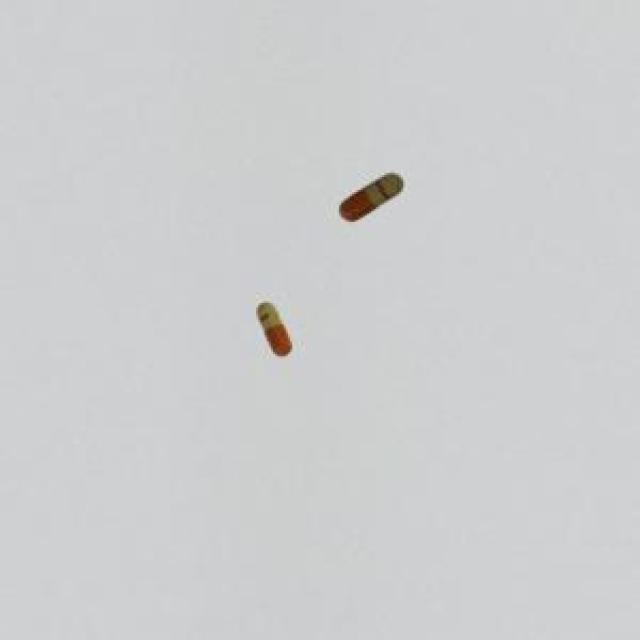Alaxan: (332, 165, 410, 229), (249, 294, 300, 367)
